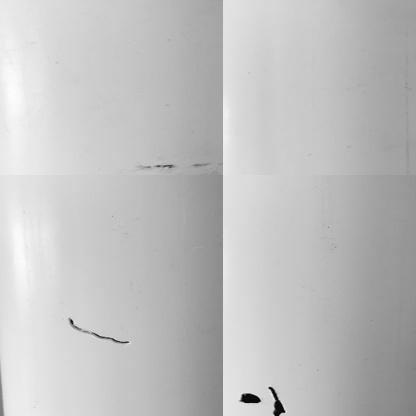fengxi: (66, 311, 138, 354)
kongdong: (267, 382, 288, 416), (234, 391, 264, 407)
